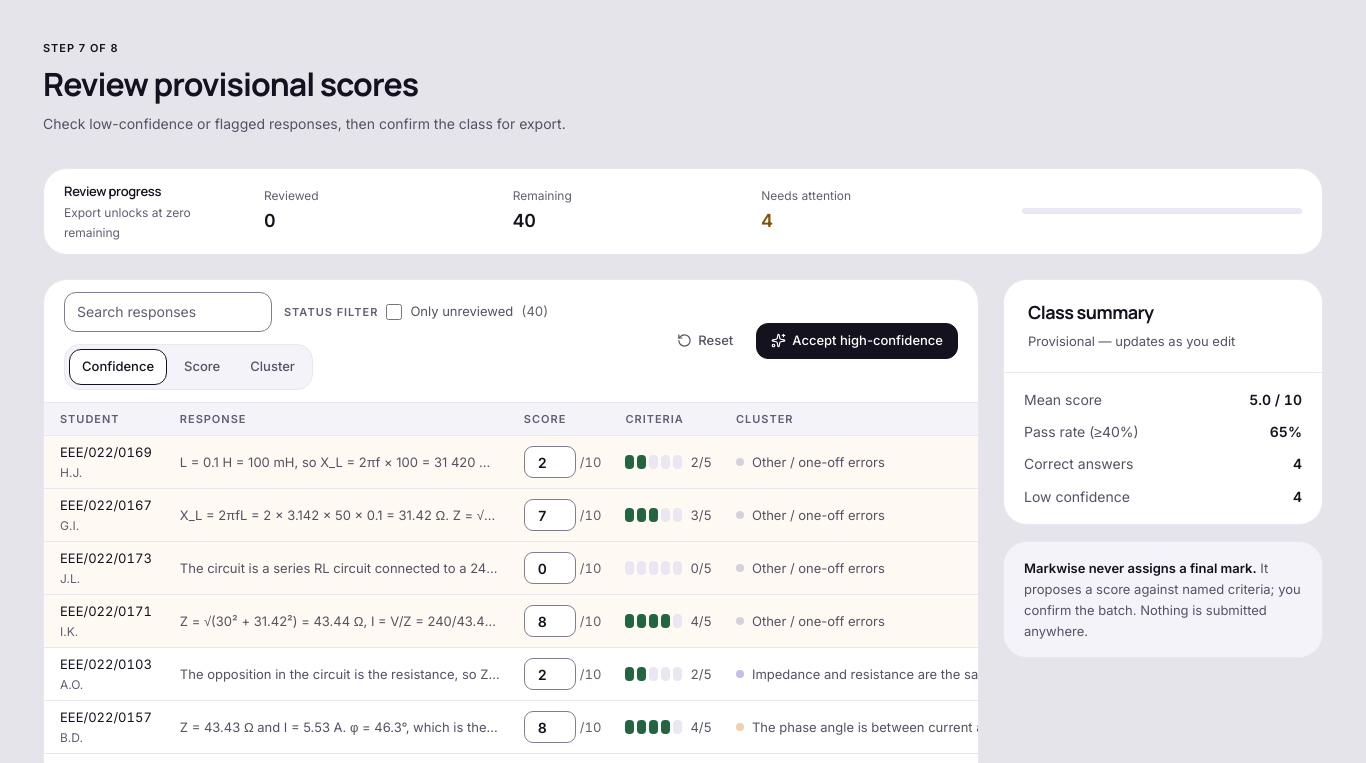
explains when status and search filters hide the remaining reviews
Click the button "Accept high-confidence". click: (857, 341)
box: [756,323,958,359]
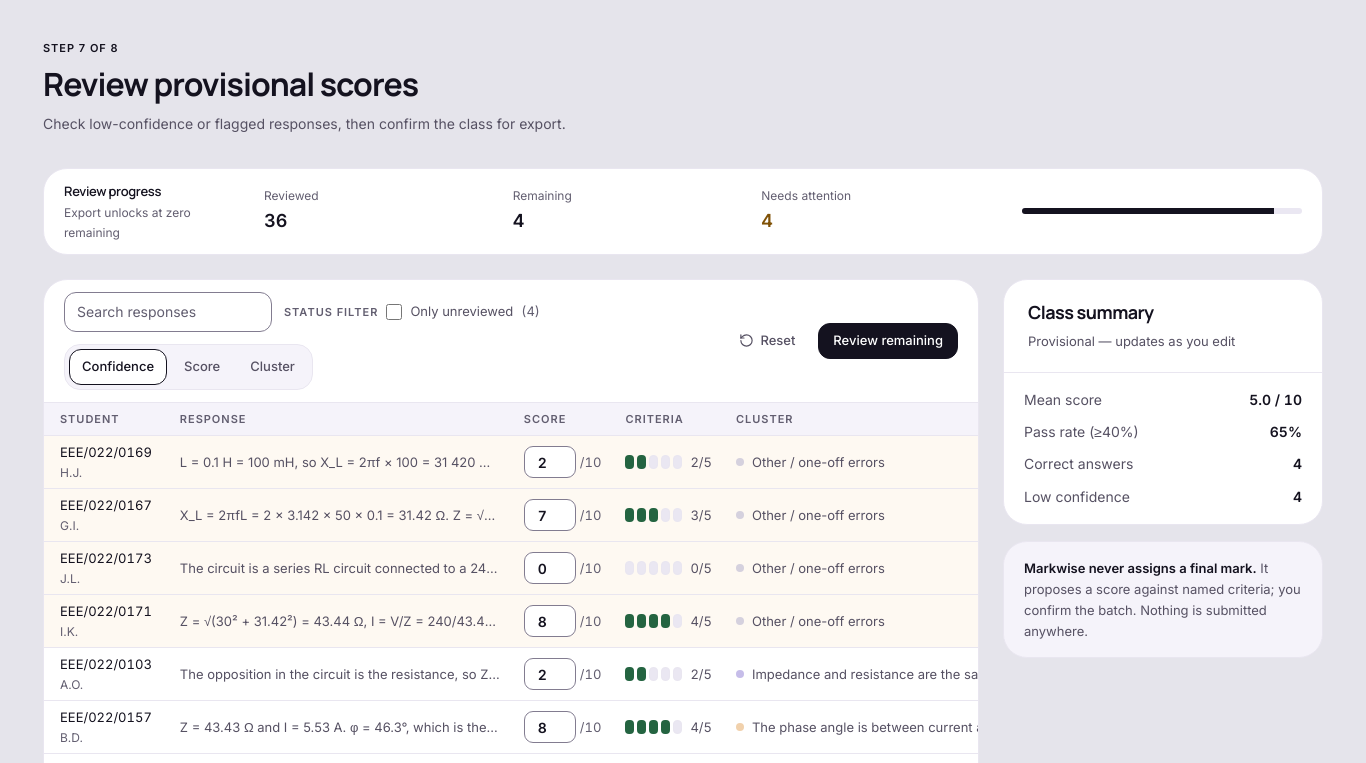
Type "EEE/022/0103" into the search field labelled "Search responses". click: (168, 312)
box: [64,292,272,332]
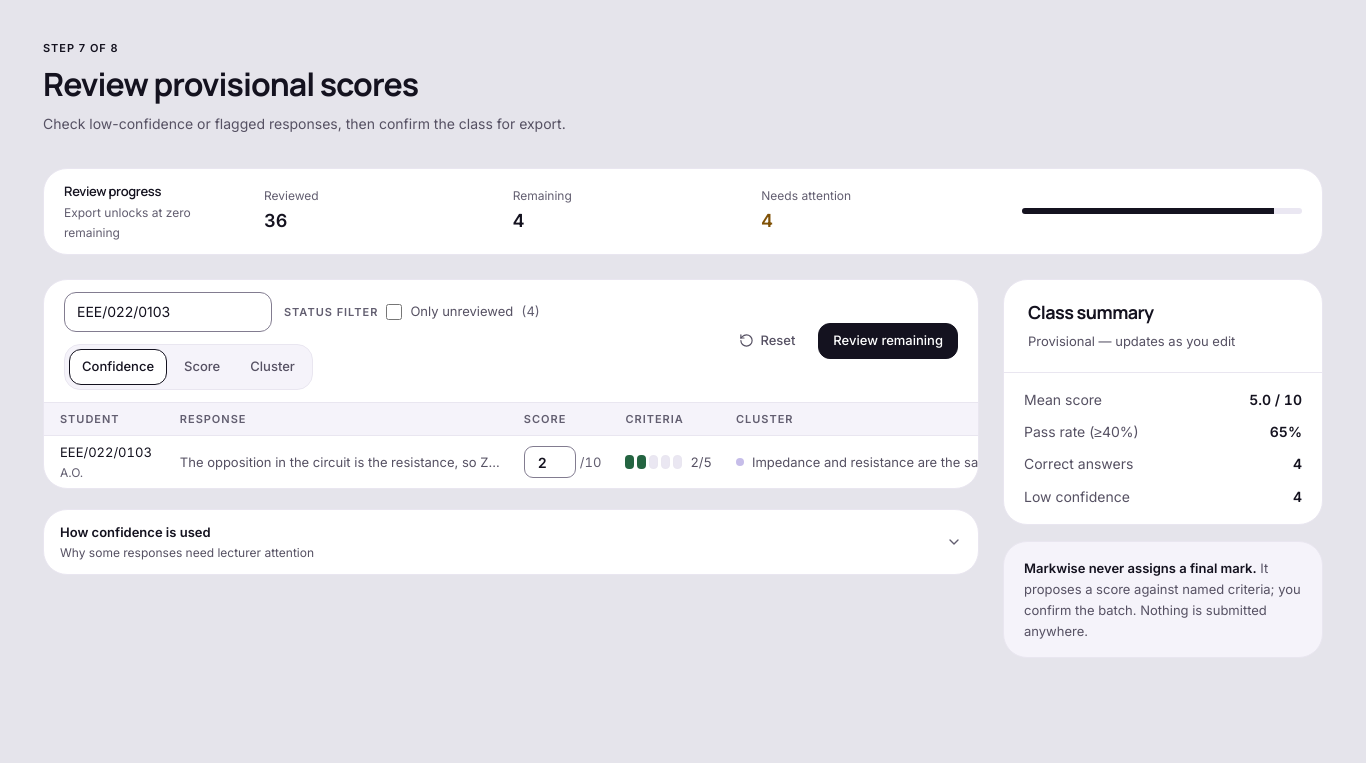
Click the checkbox labelled "Only unreviewed (4)". click: (394, 312)
box: [386,304,402,320]
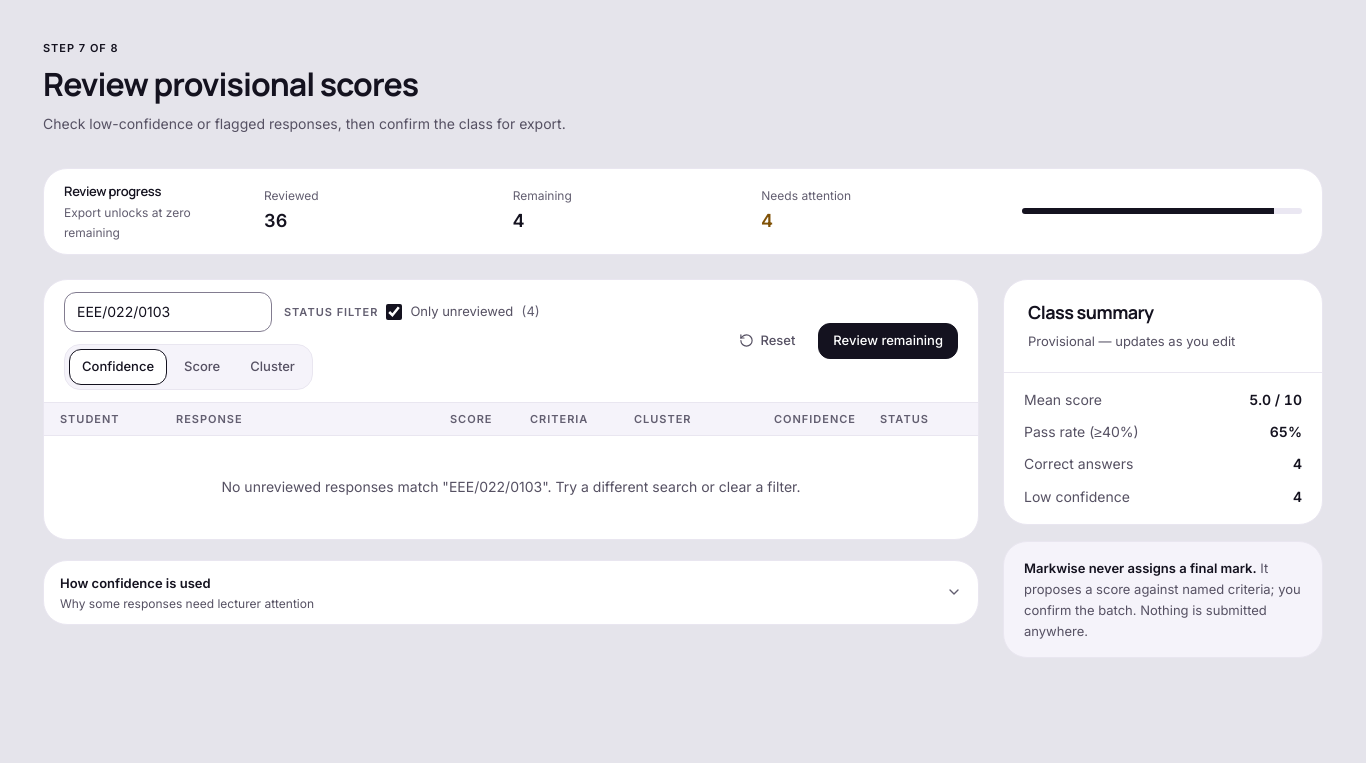
Now the text "No unreviewed responses match \"EEE/022/0103\". Try a different search or clear a filter." is shown, box [222,478,800,495]
